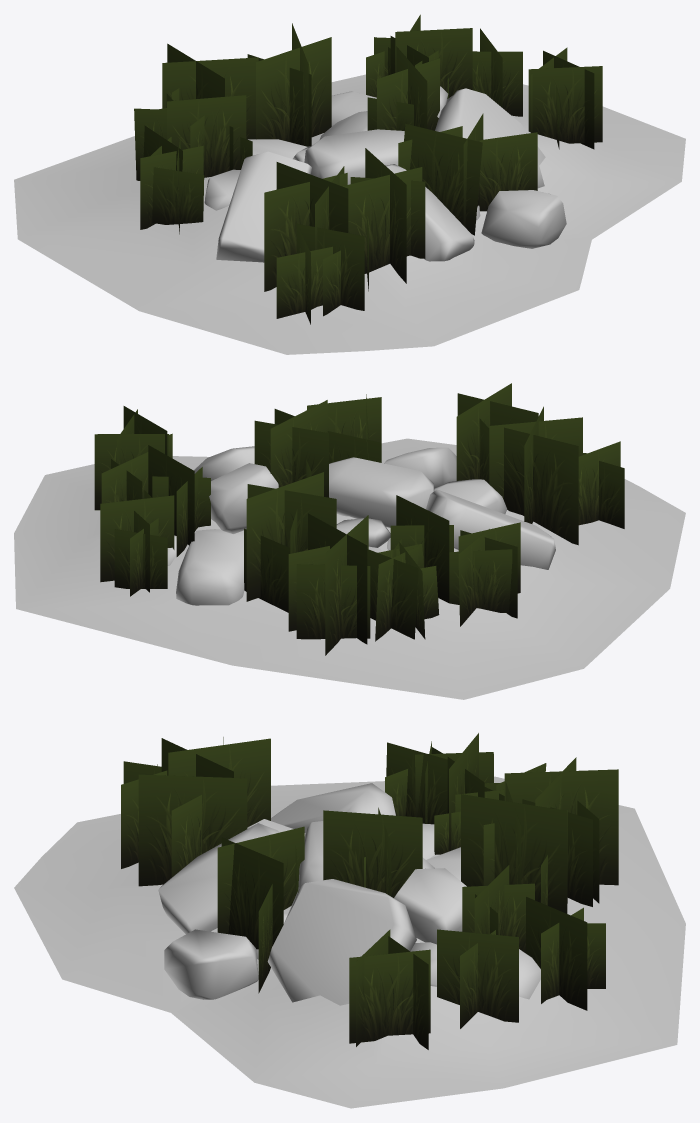
The model's file is Soil_Bricks_Grass_05.fbx.
3 views of the same model, one above another, from view 1: azimuth 30°, elevation 25°; view 2: azimuth 150°, elevation 25°; view 3: azimuth 270°, elevation 25° (orthographic). The views are drawn at different scales.
Parts seen in each view (by area): view 1: Soil_Bricks_Grass_05_LOD0; view 2: Soil_Bricks_Grass_05_LOD0; view 3: Soil_Bricks_Grass_05_LOD0.
Part boxes in pixels (box(x1,y1,x2,y2)): Soil_Bricks_Grass_05_LOD0: box(14, 14, 685, 354); Soil_Bricks_Grass_05_LOD0: box(14, 383, 685, 699); Soil_Bricks_Grass_05_LOD0: box(14, 733, 685, 1108).
Size of what is drawn, in the model's own units: 10.17 by 2.28 by 8.7.
